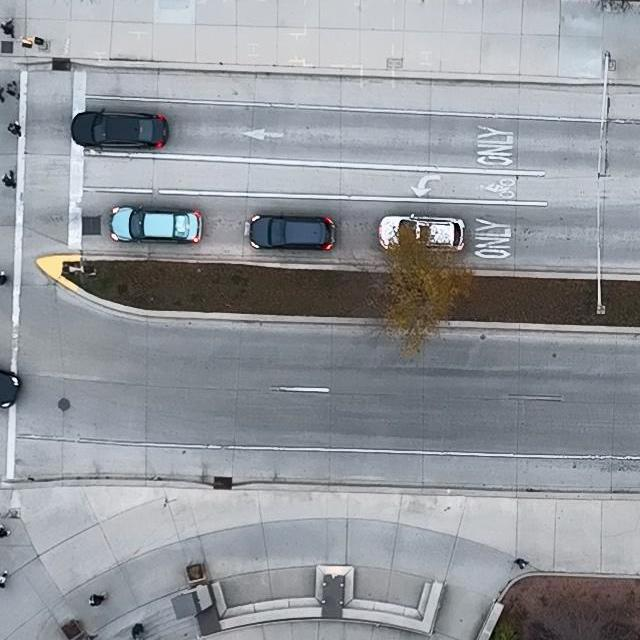car: (72, 107, 171, 151), (108, 206, 203, 245), (377, 213, 465, 254), (248, 213, 336, 253)
